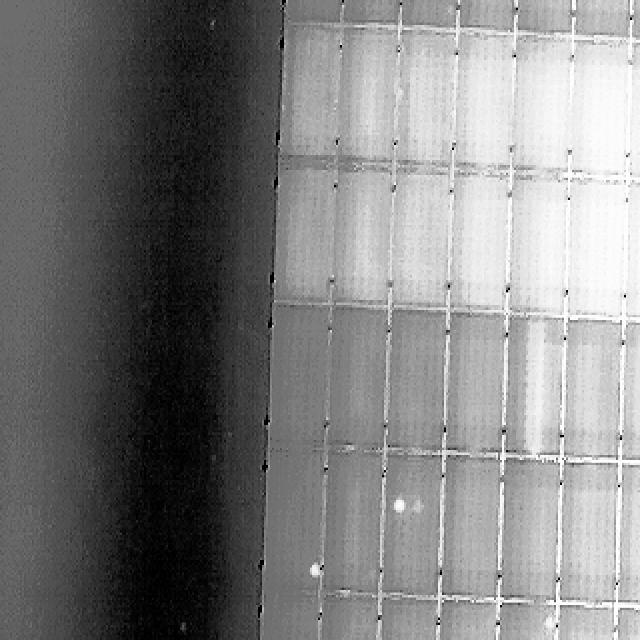Hotspots: (387, 491, 420, 521), (305, 558, 322, 584)
PV-modules: (326, 456, 389, 602), (502, 464, 565, 608), (387, 314, 448, 460), (438, 461, 499, 606), (383, 459, 444, 604), (341, 31, 404, 171), (507, 318, 568, 462), (561, 322, 622, 465), (510, 180, 571, 322), (442, 316, 502, 460), (558, 466, 618, 610), (444, 179, 506, 318), (397, 32, 457, 174), (334, 312, 393, 456), (269, 311, 328, 455), (264, 452, 322, 598), (568, 45, 628, 185), (273, 169, 333, 309), (566, 182, 625, 322), (338, 173, 397, 312), (514, 41, 572, 182), (451, 36, 509, 176), (392, 176, 450, 315), (280, 22, 338, 157), (256, 597, 318, 640), (622, 468, 640, 610), (378, 600, 440, 640), (322, 600, 382, 640), (432, 602, 494, 640), (516, 0, 578, 37), (575, 0, 632, 38), (498, 605, 558, 640), (626, 325, 640, 467), (458, 0, 520, 32), (626, 185, 640, 325), (554, 607, 612, 640), (398, 0, 459, 30), (338, 0, 398, 29), (285, 0, 344, 27), (630, 45, 640, 187), (616, 610, 640, 640), (628, 0, 640, 40)
